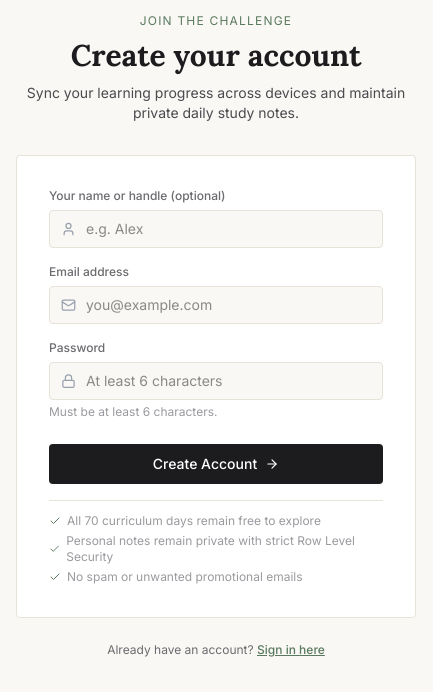
Scenario: Authentication Pages & Flows › SignUpPage › does not show confirmation screen when signup fails with an error
Type "fail@example.com" into the field with placeholder "you@example.com" at coordinates (216, 304), box x1=49 y1=286 x2=383 y2=324
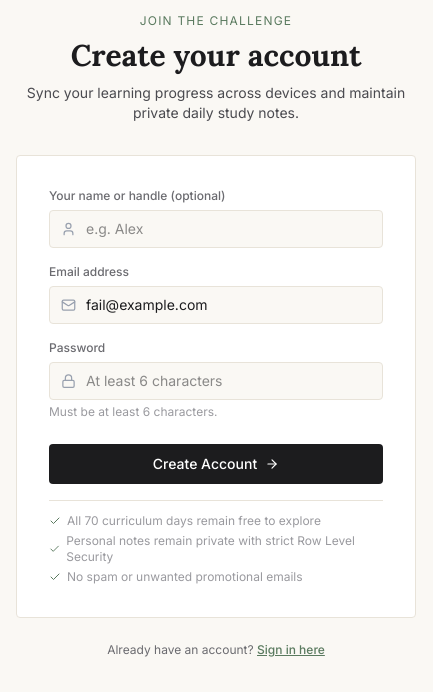
Type "securepassword123" into the password field with placeholder "At least 6 characters" at coordinates (216, 380), box x1=49 y1=362 x2=383 y2=400
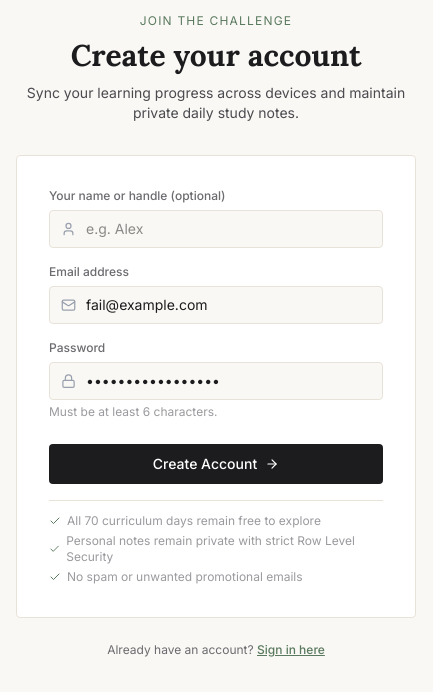
Click the button "Create Account" at coordinates (216, 464), box x1=49 y1=444 x2=383 y2=484
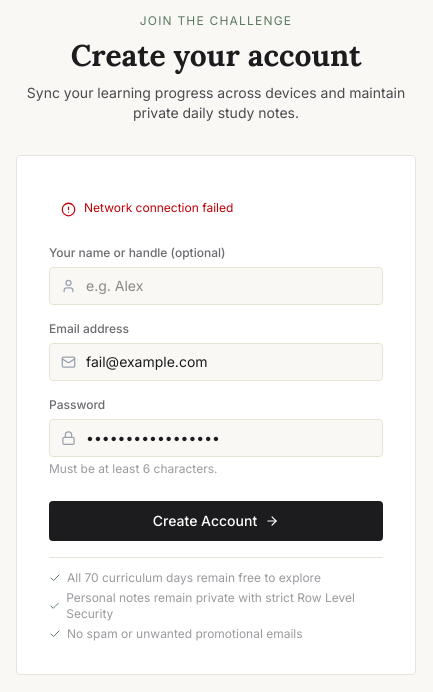
Expected: the text "Network connection failed" is shown, x1=84 y1=200 x2=233 y2=216
